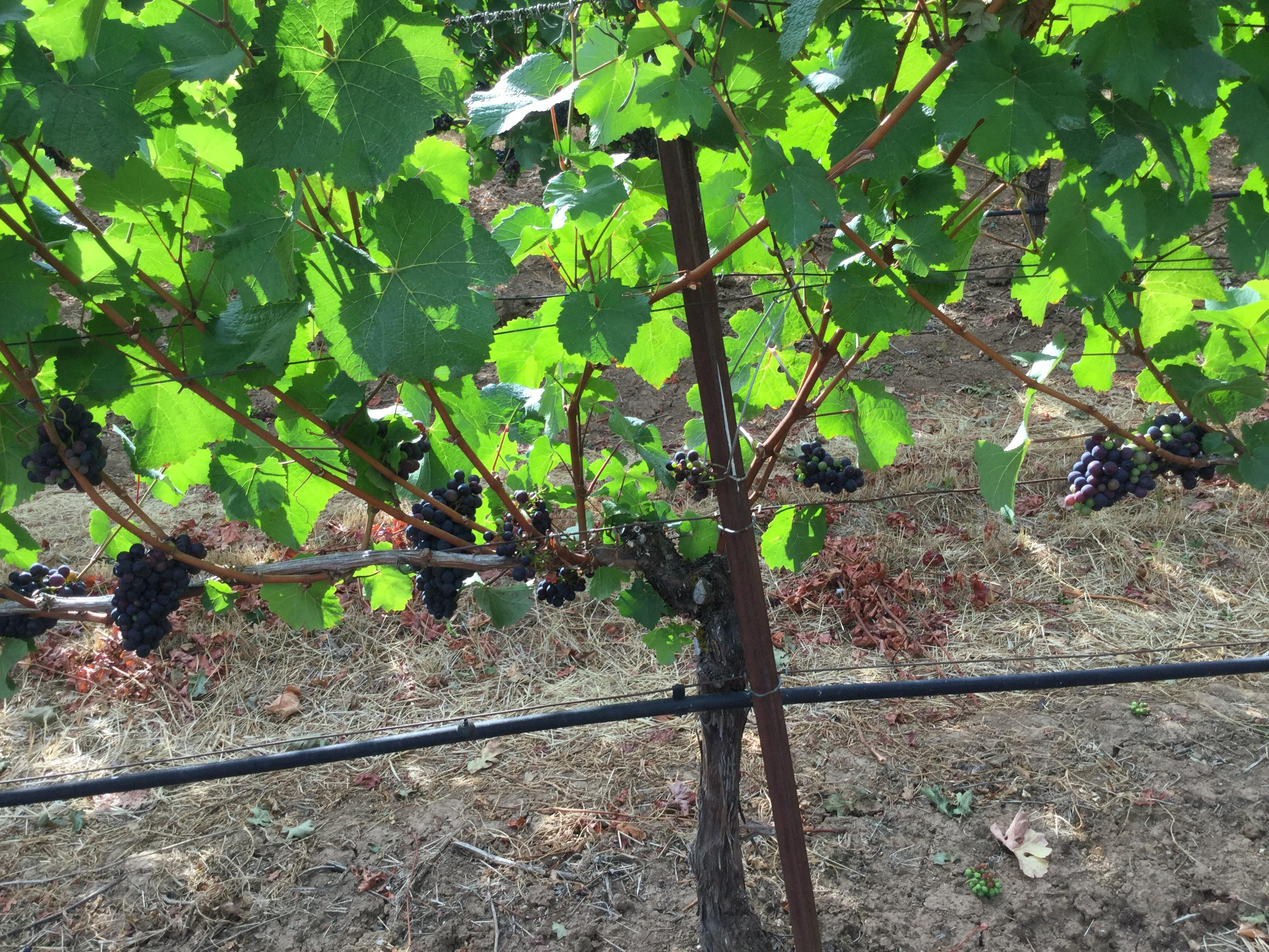leaf: (234, 0, 468, 190), (307, 180, 512, 379), (935, 29, 1086, 178), (38, 19, 148, 175), (209, 441, 337, 549), (215, 167, 301, 302), (1040, 178, 1131, 296), (112, 382, 234, 469), (1077, 0, 1178, 105), (141, 0, 257, 81), (751, 139, 840, 244), (468, 53, 575, 136), (203, 297, 309, 374), (715, 30, 795, 130), (804, 14, 897, 100), (558, 278, 650, 363), (828, 261, 928, 335), (635, 47, 714, 138), (845, 105, 935, 182), (79, 156, 179, 224), (0, 20, 57, 138), (574, 60, 650, 147), (848, 380, 912, 471), (620, 304, 689, 388), (0, 236, 56, 336), (543, 166, 626, 229), (974, 428, 1029, 523), (608, 412, 675, 488), (625, 0, 699, 60), (404, 136, 470, 203), (761, 506, 826, 571), (0, 411, 42, 511), (1010, 252, 1066, 325), (260, 582, 342, 630), (895, 213, 956, 275), (1071, 312, 1118, 392), (1224, 81, 1268, 164), (1224, 193, 1268, 275), (829, 98, 879, 161), (615, 578, 668, 629), (471, 583, 532, 627), (356, 565, 413, 611), (90, 509, 141, 557), (642, 622, 694, 664), (0, 637, 34, 700), (0, 512, 40, 565), (678, 510, 718, 559), (885, 92, 902, 109), (0, 388, 17, 402), (1180, 4, 1187, 16), (681, 38, 686, 43), (881, 111, 884, 114), (248, 820, 250, 821), (156, 79, 157, 81), (146, 225, 147, 227), (14, 408, 16, 409), (22, 8, 24, 9), (94, 513, 96, 513), (1178, 24, 1179, 24), (1187, 17, 1187, 17)
